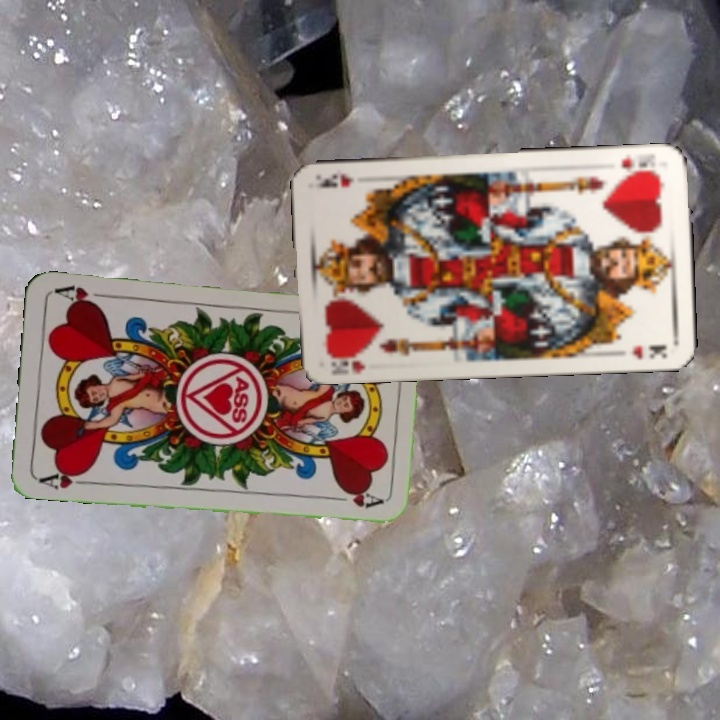HA: (35, 465, 93, 492)
HK: (323, 347, 368, 376), (618, 153, 662, 179)
